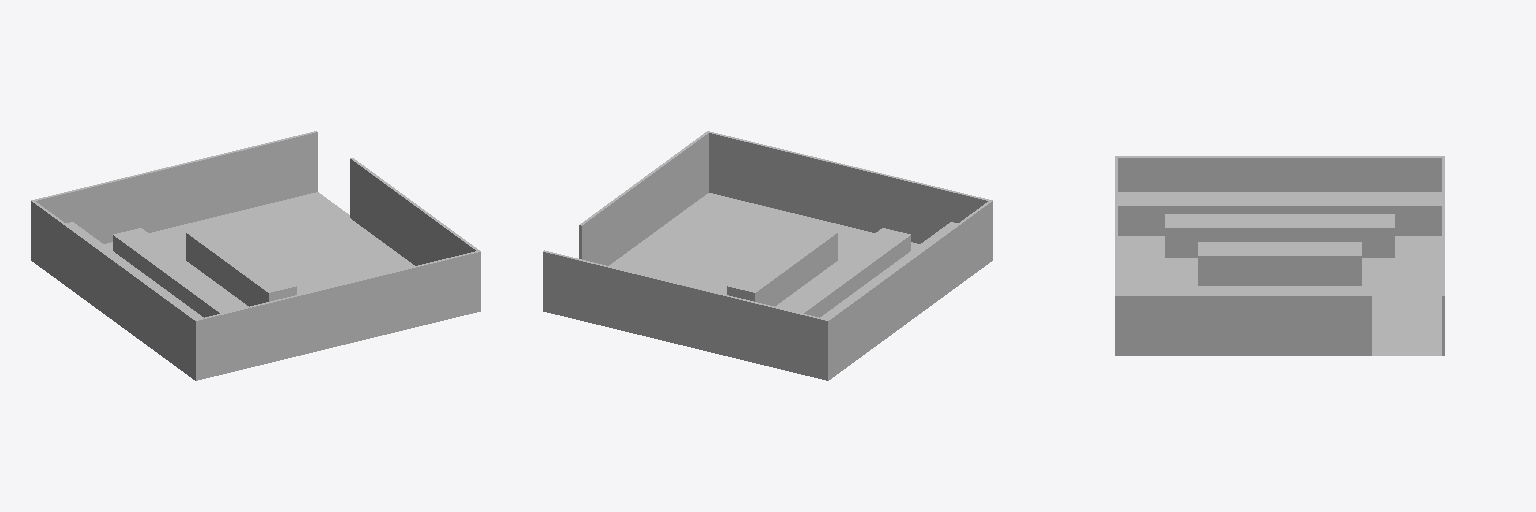
The model's file is map2.obj.
The picture shows the model from 3 angles: view 1: azimuth 30°, elevation 25°; view 2: azimuth 150°, elevation 25°; view 3: azimuth 270°, elevation 25°; orthographic projection.
Parts seen in each view (by area): view 1: Cube.004_Cube.005, Cube.006_Cube.007, Plane, Cube.005_Cube.006, Cube.003_Cube.004, Cube.002_Cube.003, Cube.001_Cube.002, Cube_Cube.001; view 2: Cube.006_Cube.007, Cube.004_Cube.005, Plane, Cube.005_Cube.006, Cube.003_Cube.004, Cube.002_Cube.003, Cube.001_Cube.002, Cube_Cube.001; view 3: Cube.003_Cube.004, Plane, Cube.005_Cube.006, Cube_Cube.001, Cube.001_Cube.002, Cube.002_Cube.003, Cube.006_Cube.007.
Part boxes in pixels (x1,y1,x2,y2): Cube.004_Cube.005: (197,250,480,379); Cube.006_Cube.007: (31,131,317,243); Plane: (104,192,414,294); Cube.005_Cube.006: (31,200,198,380); Cube.003_Cube.004: (350,158,480,311); Cube.002_Cube.003: (186,226,296,306); Cube.001_Cube.002: (113,228,248,317); Cube_Cube.001: (66,222,235,377); Cube.006_Cube.007: (543,250,827,380); Cube.004_Cube.005: (707,131,989,243); Plane: (609,193,919,294); Cube.005_Cube.006: (828,200,992,380); Cube.003_Cube.004: (579,131,709,265); Cube.002_Cube.003: (727,226,837,306); Cube.001_Cube.002: (775,228,910,317); Cube_Cube.001: (820,222,957,318); Cube.003_Cube.004: (1115,294,1371,355); Plane: (1118,236,1441,355); Cube.005_Cube.006: (1115,156,1444,191); Cube_Cube.001: (1118,192,1441,235); Cube.001_Cube.002: (1165,214,1394,257); Cube.002_Cube.003: (1198,242,1361,285); Cube.006_Cube.007: (1442,158,1444,355).
Bounding box in the file's own units: 20 × 4 × 20.